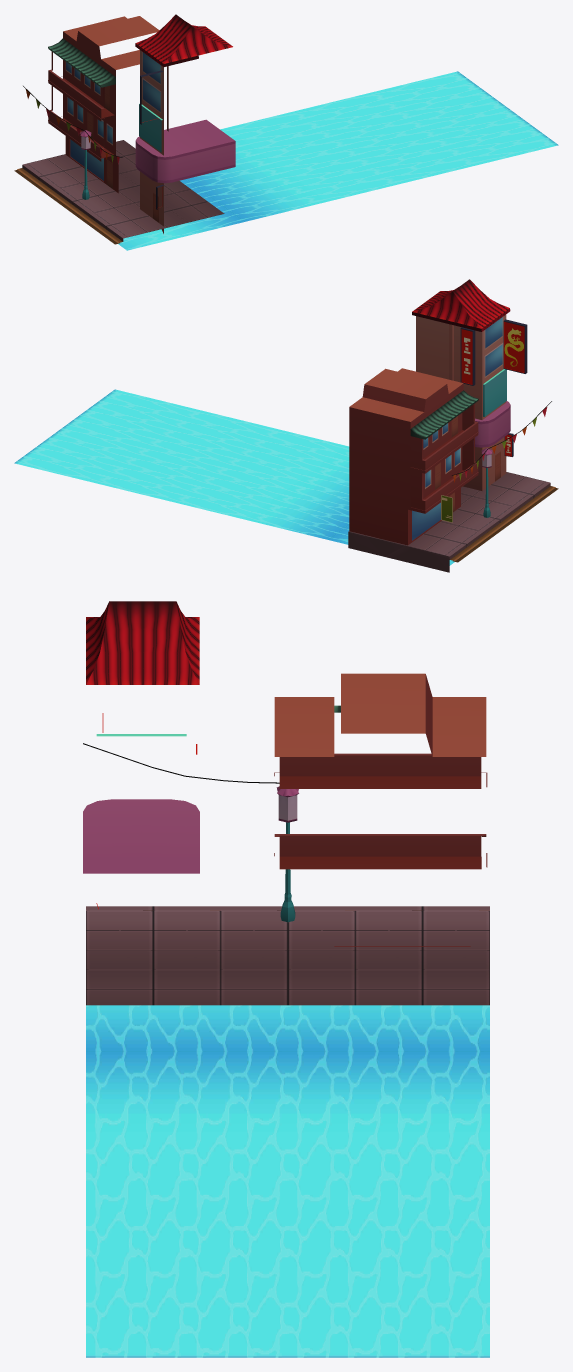
Rendered from 1.100_SanFrancisco_med_03_left.glb.
3 renders of one model, top to bottom at view 1: azimuth 30°, elevation 25°; view 2: azimuth 150°, elevation 25°; view 3: azimuth 270°, elevation 25°, orthographic. The views are drawn at different scales.
Visible parts, largest first — view 1: 1.100_SanFrancisco_med_03_left; view 2: 1.100_SanFrancisco_med_03_left; view 3: 1.100_SanFrancisco_med_03_left.
Boxes of the visible parts, <box> form: 1.100_SanFrancisco_med_03_left: <box>14,14,558,250</box>; 1.100_SanFrancisco_med_03_left: <box>14,279,558,572</box>; 1.100_SanFrancisco_med_03_left: <box>83,601,489,1357</box>.
Bounding box in the file's own units: 457 × 202 × 181.
Materials: 3 (3 with a texture image).
